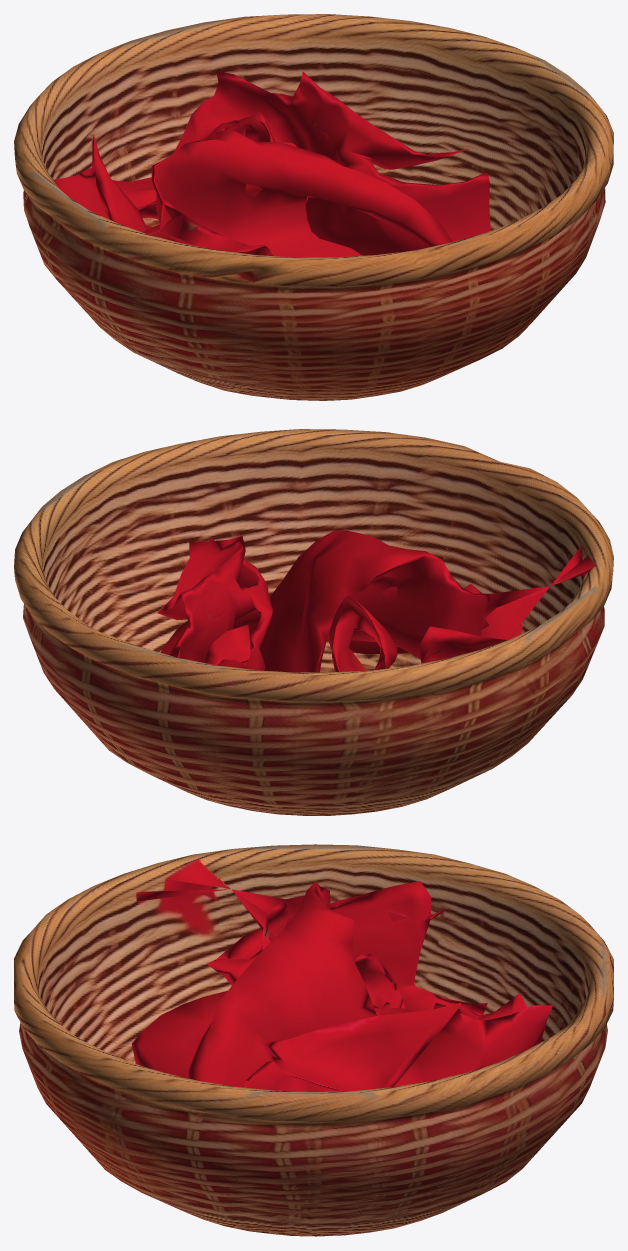
The model's file is xmas_basket.glb.
The picture shows the model from 3 angles, top to bottom: view 1: azimuth 30°, elevation 25°; view 2: azimuth 150°, elevation 25°; view 3: azimuth 270°, elevation 25°; orthographic projection.
Bounding box in the file's own units: 1 × 0.431 × 1.
Materials: 1 (1 with a texture image).
